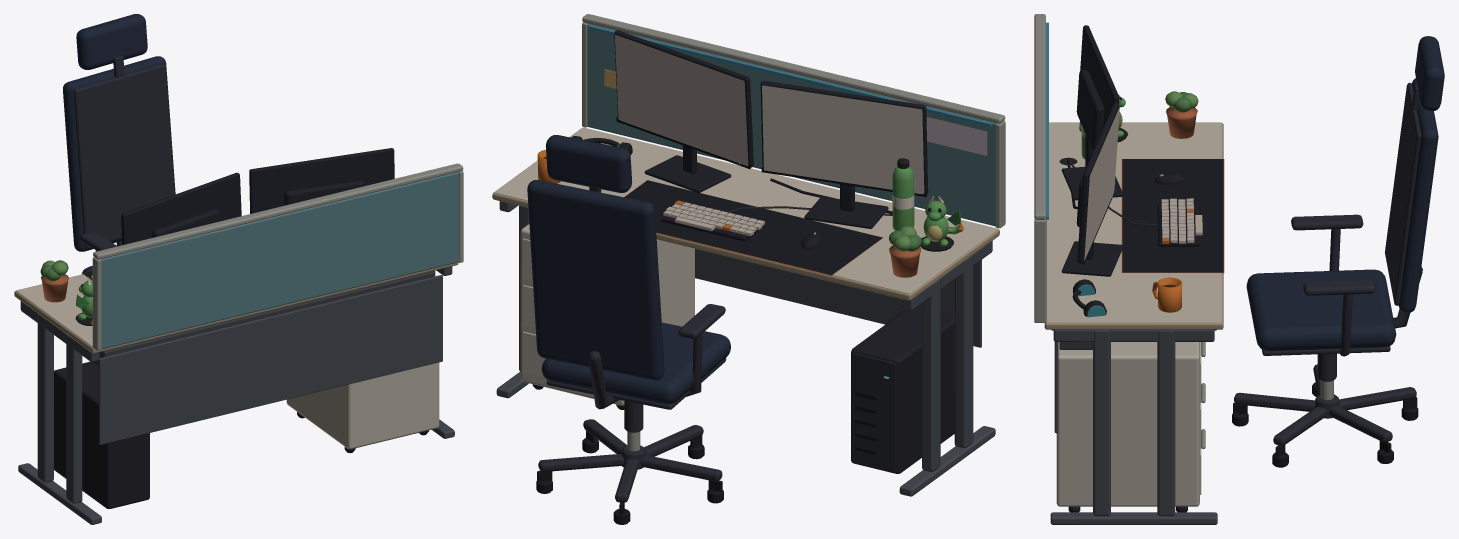
File: hero-workstation.glb
3 views of the same model, side by side, from view 1: azimuth 30°, elevation 25°; view 2: azimuth 150°, elevation 25°; view 3: azimuth 270°, elevation 25° (orthographic). The views are drawn at different scales.
Parts seen in each view (by area): view 1: toon_metal, toon_fabric, toon_plastic, toon_wood, toon_leather, toon_brushed, toon_decor; view 2: toon_plastic, toon_leather, toon_display, toon_fabric, toon_wood, toon_metal, toon_brushed, toon_decor, toon_light, toon_print, toon_foliage; view 3: toon_wood, toon_plastic, toon_leather, toon_metal, toon_fabric, toon_brushed, toon_display, toon_decor, toon_light, toon_foliage.
Part boxes in pixels (bbox=[...]): toon_metal: bbox=[18, 266, 454, 524]; toon_fabric: bbox=[81, 172, 458, 349]; toon_plastic: bbox=[54, 55, 428, 508]; toon_wood: bbox=[14, 262, 458, 449]; toon_leather: bbox=[63, 14, 175, 272]; toon_brushed: bbox=[92, 163, 463, 351]; toon_decor: bbox=[41, 274, 92, 325]; toon_plastic: bbox=[532, 30, 954, 524]; toon_leather: bbox=[527, 135, 730, 404]; toon_display: bbox=[614, 34, 924, 194]; toon_fabric: bbox=[570, 23, 996, 275]; toon_wood: bbox=[492, 127, 999, 405]; toon_metal: bbox=[496, 201, 995, 496]; toon_brushed: bbox=[582, 14, 1005, 451]; toon_decor: bbox=[537, 69, 964, 277]; toon_light: bbox=[587, 25, 992, 378]; toon_print: bbox=[926, 117, 987, 155]; toon_foliage: bbox=[889, 226, 921, 251]; toon_wood: bbox=[1044, 122, 1223, 506]; toon_plastic: bbox=[1059, 25, 1422, 512]; toon_leather: bbox=[1246, 36, 1444, 351]; toon_metal: bbox=[1050, 329, 1217, 524]; toon_fabric: bbox=[1077, 159, 1224, 317]; toon_brushed: bbox=[1034, 14, 1333, 448]; toon_display: bbox=[1084, 106, 1119, 260]; toon_decor: bbox=[1045, 94, 1197, 312]; toon_light: bbox=[1046, 22, 1112, 219]; toon_foliage: bbox=[1165, 91, 1198, 112].
Size of the model in its own units: 1.6 by 1.39 by 1.38.
